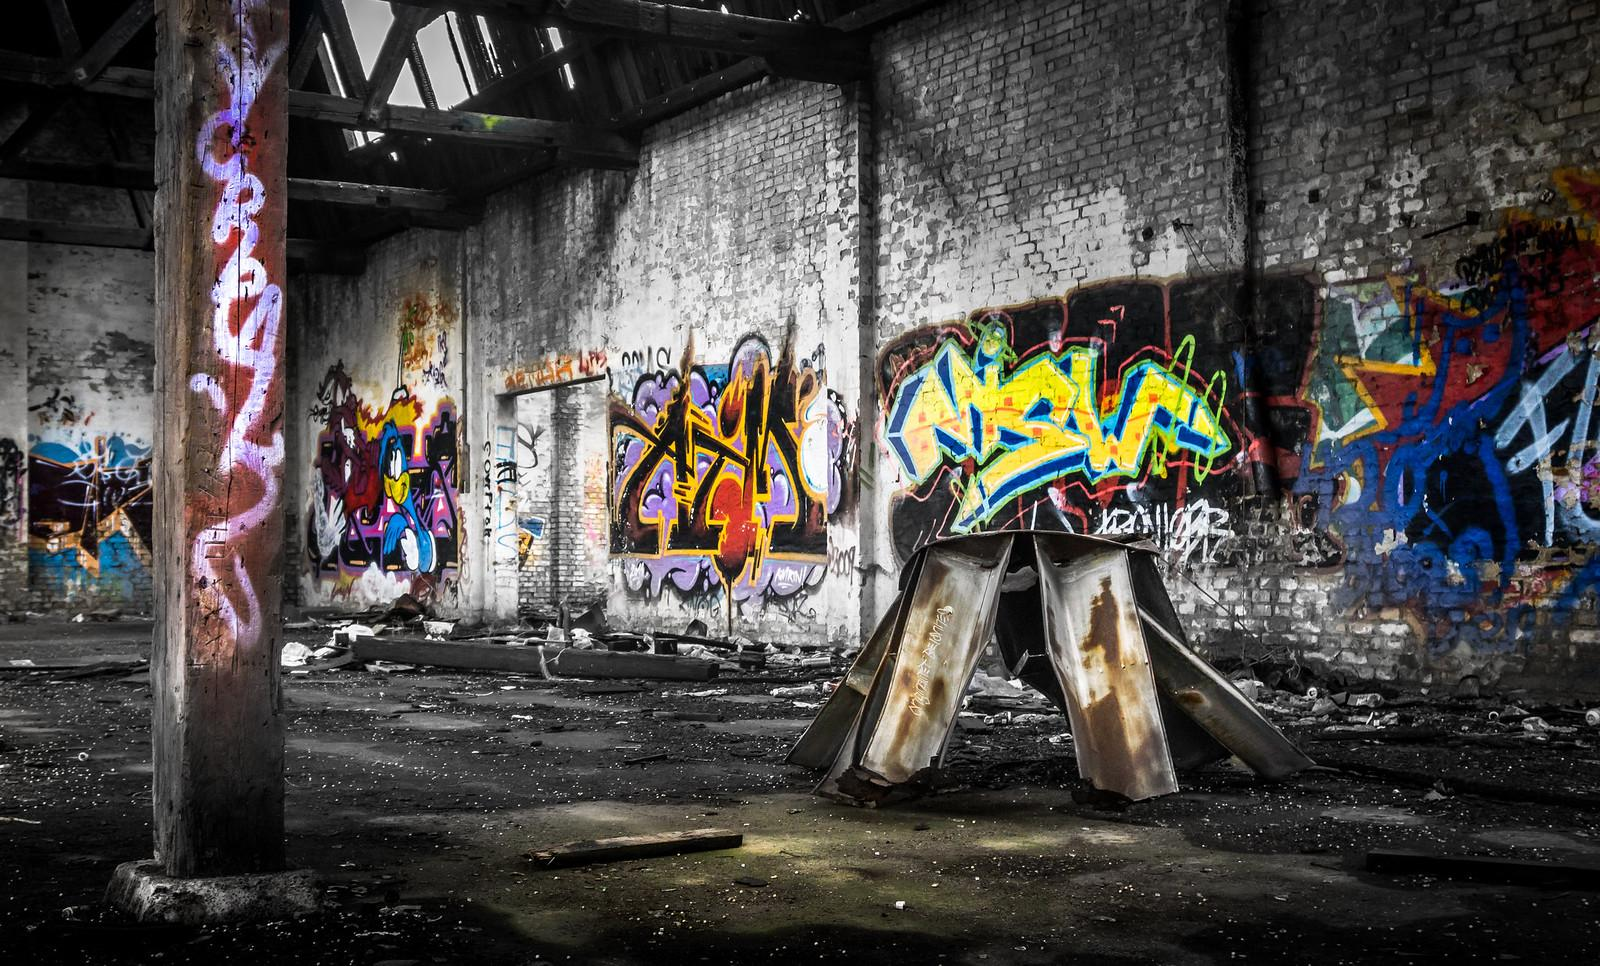graffiti: (1313, 218, 1594, 648), (879, 272, 1305, 552), (616, 351, 856, 632), (192, 3, 285, 678), (304, 359, 469, 596), (30, 439, 154, 586), (391, 292, 455, 385), (486, 432, 520, 591), (494, 353, 616, 383), (0, 438, 25, 526)
trash: (905, 541, 1170, 809), (1154, 544, 1305, 803), (351, 632, 726, 689), (793, 660, 933, 790), (536, 822, 750, 863), (734, 642, 833, 671), (279, 634, 358, 666), (1341, 682, 1384, 706), (1231, 674, 1269, 700), (1517, 710, 1554, 734), (1306, 679, 1334, 703), (1377, 706, 1405, 725), (1349, 713, 1378, 724)
